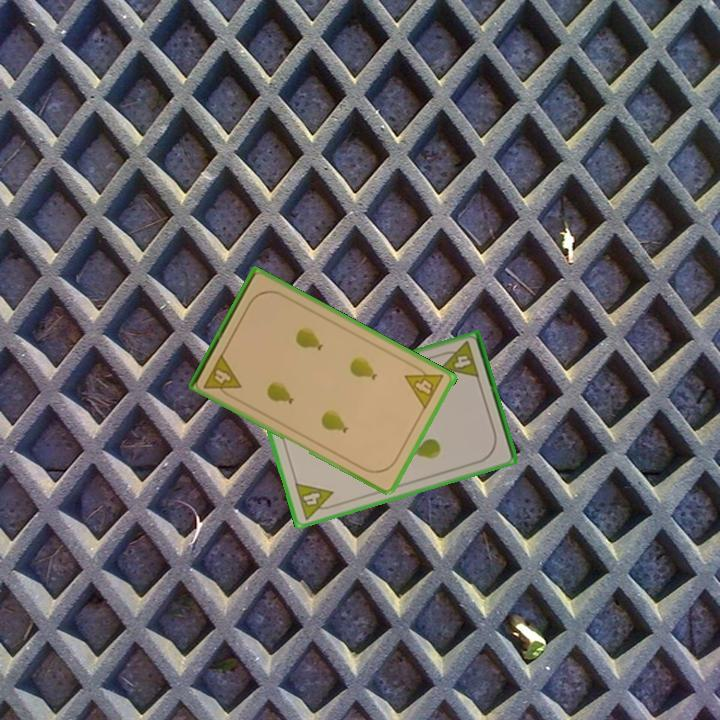4p: (402, 360, 447, 412), (200, 350, 244, 402), (291, 479, 340, 522), (435, 338, 482, 381)
